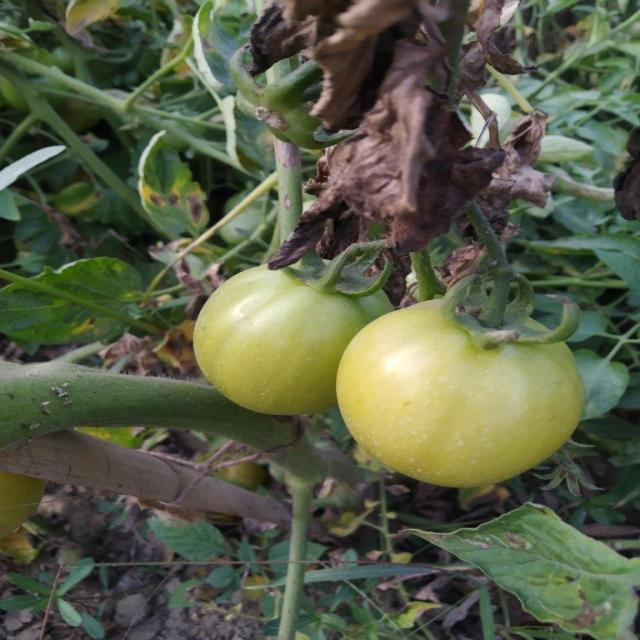Unripe: (337, 290, 589, 488), (197, 254, 397, 416)
